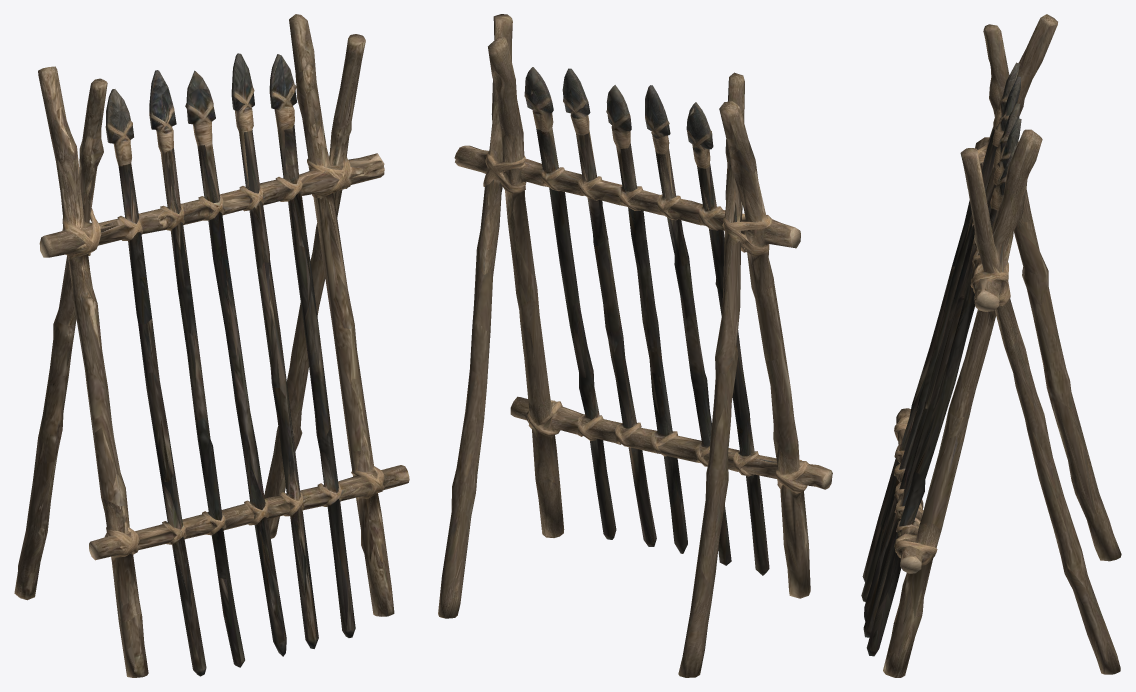
The model's file is spear-rack.glb.
3 renders of one model, left to right at view 1: azimuth 30°, elevation 25°; view 2: azimuth 150°, elevation 25°; view 3: azimuth 270°, elevation 25°, orthographic. The views are drawn at different scales.
Parts seen in each view (by area): view 1: Mesh_0; view 2: Mesh_0; view 3: Mesh_0.
Part boxes in pixels (x1,y1,x2,y2): Mesh_0: [14, 14, 409, 677]; Mesh_0: [438, 14, 832, 677]; Mesh_0: [861, 14, 1121, 677].
Size of the model in its own units: 1.4 by 2.2 by 0.9598.
Materials: 1 (1 with a texture image).
